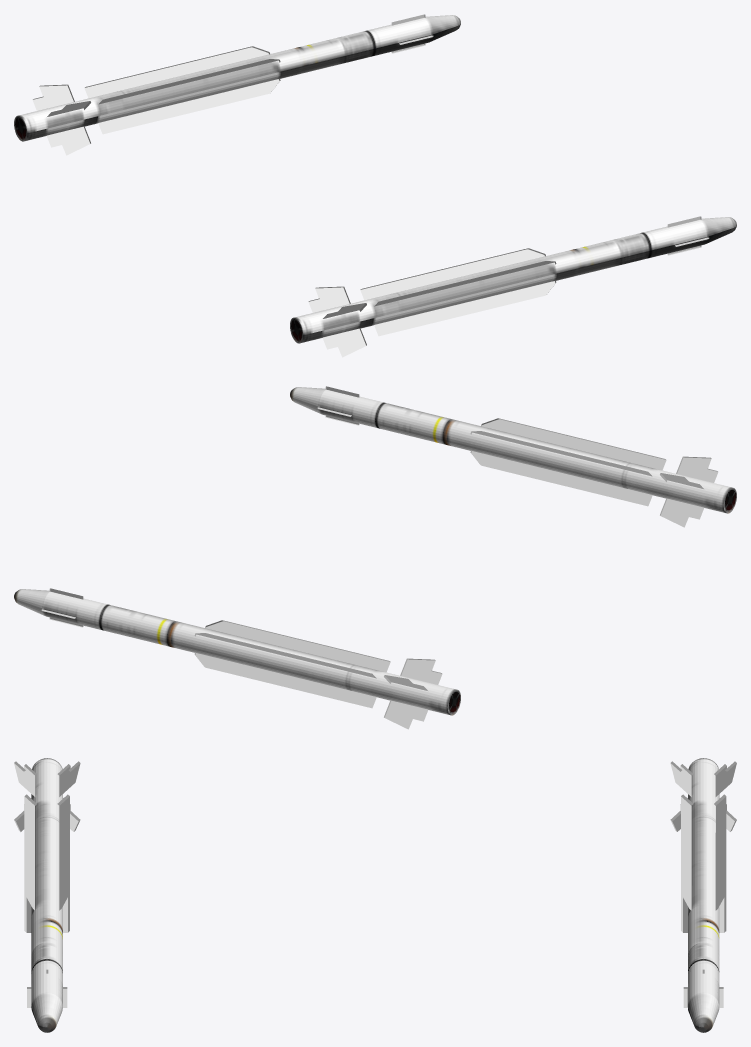
Rendered from rafalemicair47.glb.
The picture shows the model from 3 angles, top to bottom: view 1: azimuth 30°, elevation 25°; view 2: azimuth 150°, elevation 25°; view 3: azimuth 270°, elevation 25°; orthographic projection. The views are drawn at different scales.
Parts seen in each view (by area): view 1: 円柱.022, 円柱.021; view 2: 円柱.021, 円柱.022; view 3: 円柱.021, 円柱.022.
Part boxes in pixels (bbox=[...]): 円柱.022: bbox=[290, 216, 736, 357]; 円柱.021: bbox=[14, 14, 460, 155]; 円柱.021: bbox=[14, 588, 460, 729]; 円柱.022: bbox=[290, 386, 736, 527]; 円柱.021: bbox=[670, 758, 736, 1032]; 円柱.022: bbox=[14, 758, 80, 1032].
Size of the model in its own units: 3.55 by 0.3915 by 4.25.
1 material, 1 textured.
